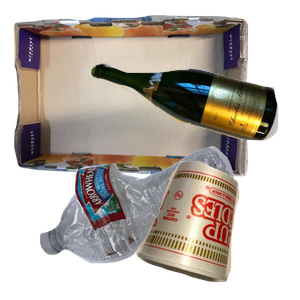cardboard: (11, 13, 251, 182)
glass: (88, 60, 300, 193)
plastic: (37, 144, 265, 300)
trash: (133, 158, 300, 300)
